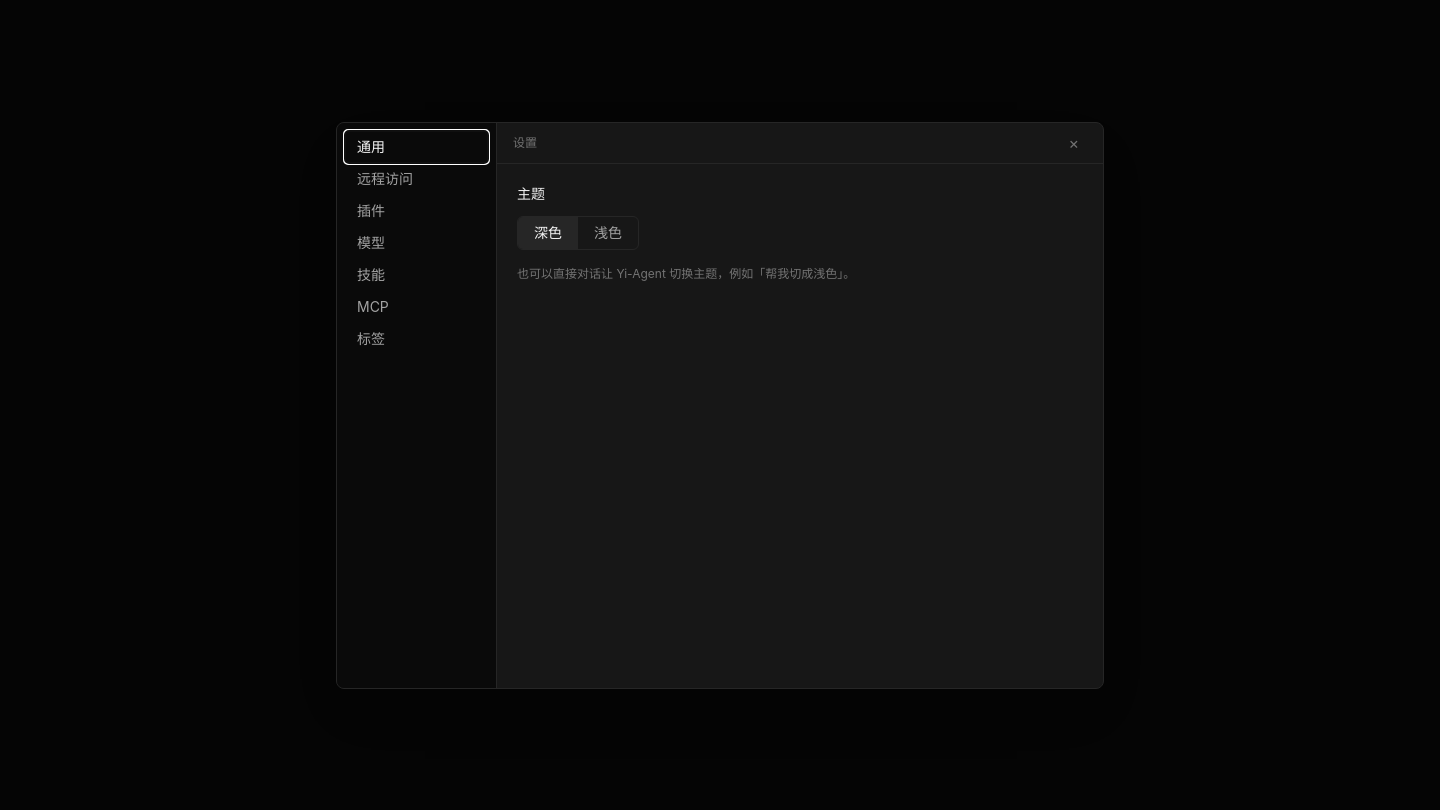
SettingsDialog › shows a 插件 tab that reports the empty state
This screenshot has width=1440, height=810.
Click the tab "插件" at (416, 210), box [345,194,488,226]
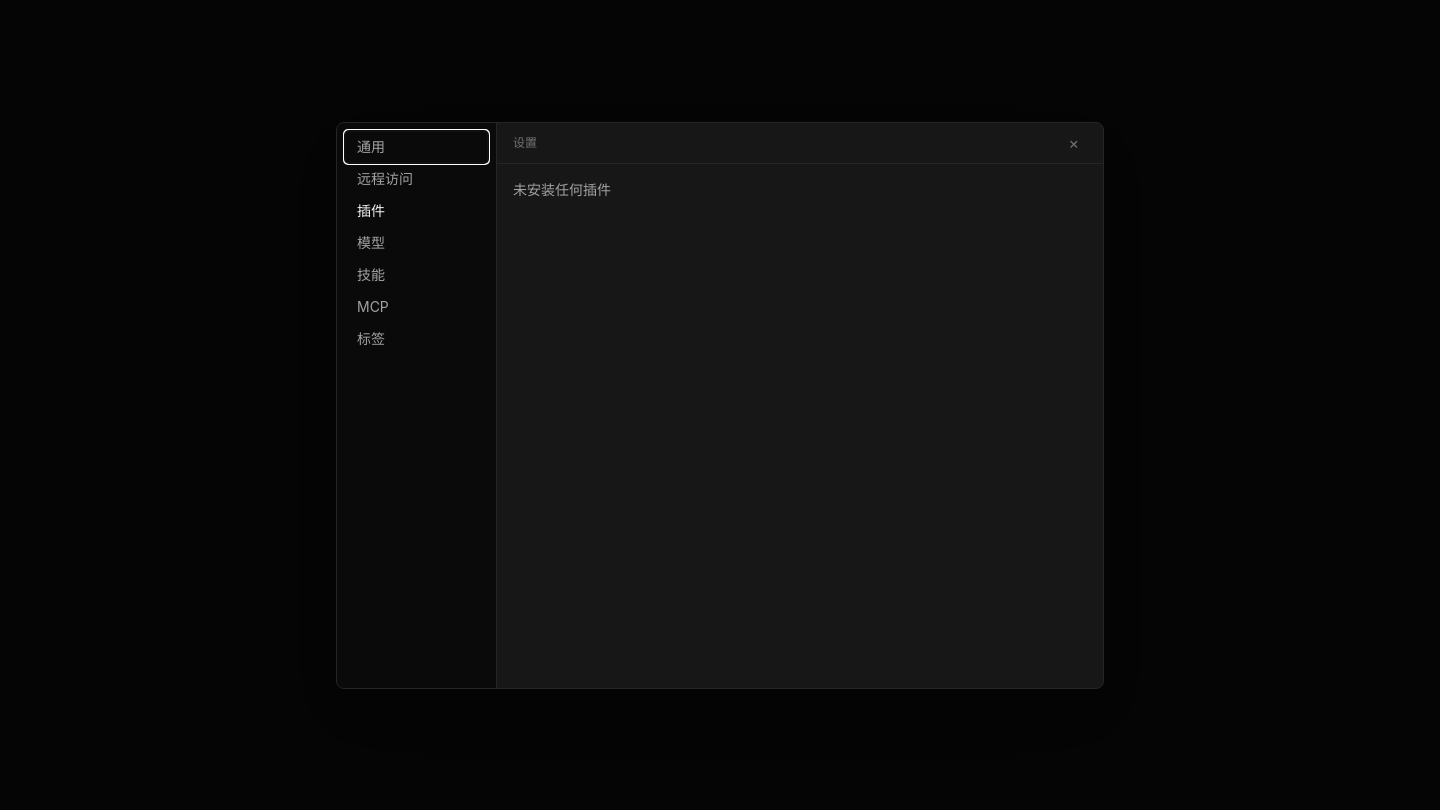
expect the text "未安装任何插件" is shown: met, box [513,180,611,198]
